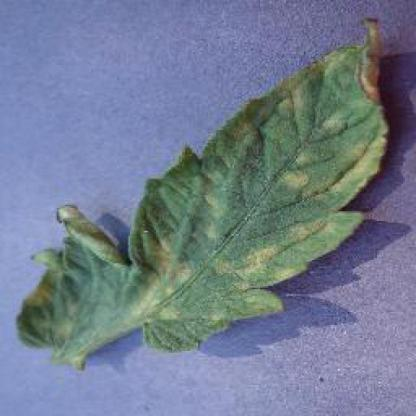Tomato_Leaf_Mold: (22, 15, 381, 365)
